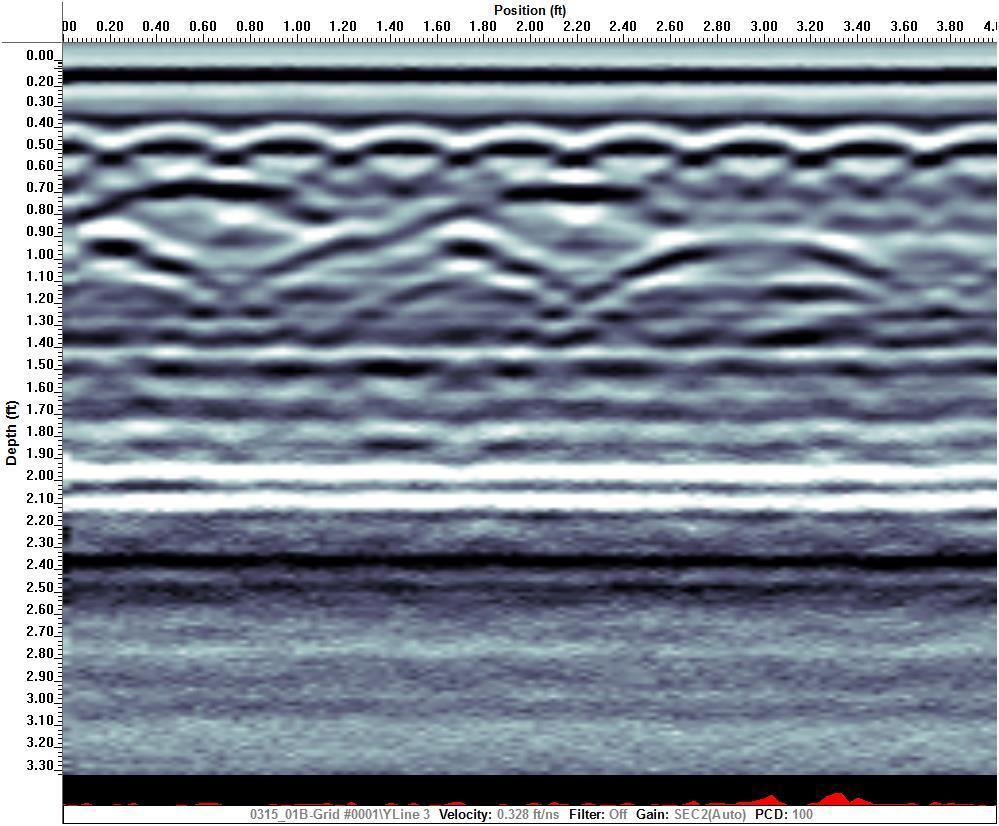hyperbola: (487, 225, 959, 363), (811, 111, 926, 171), (694, 106, 809, 166), (588, 107, 703, 167), (456, 109, 571, 169), (350, 108, 465, 168), (237, 104, 352, 164), (112, 114, 227, 174)
